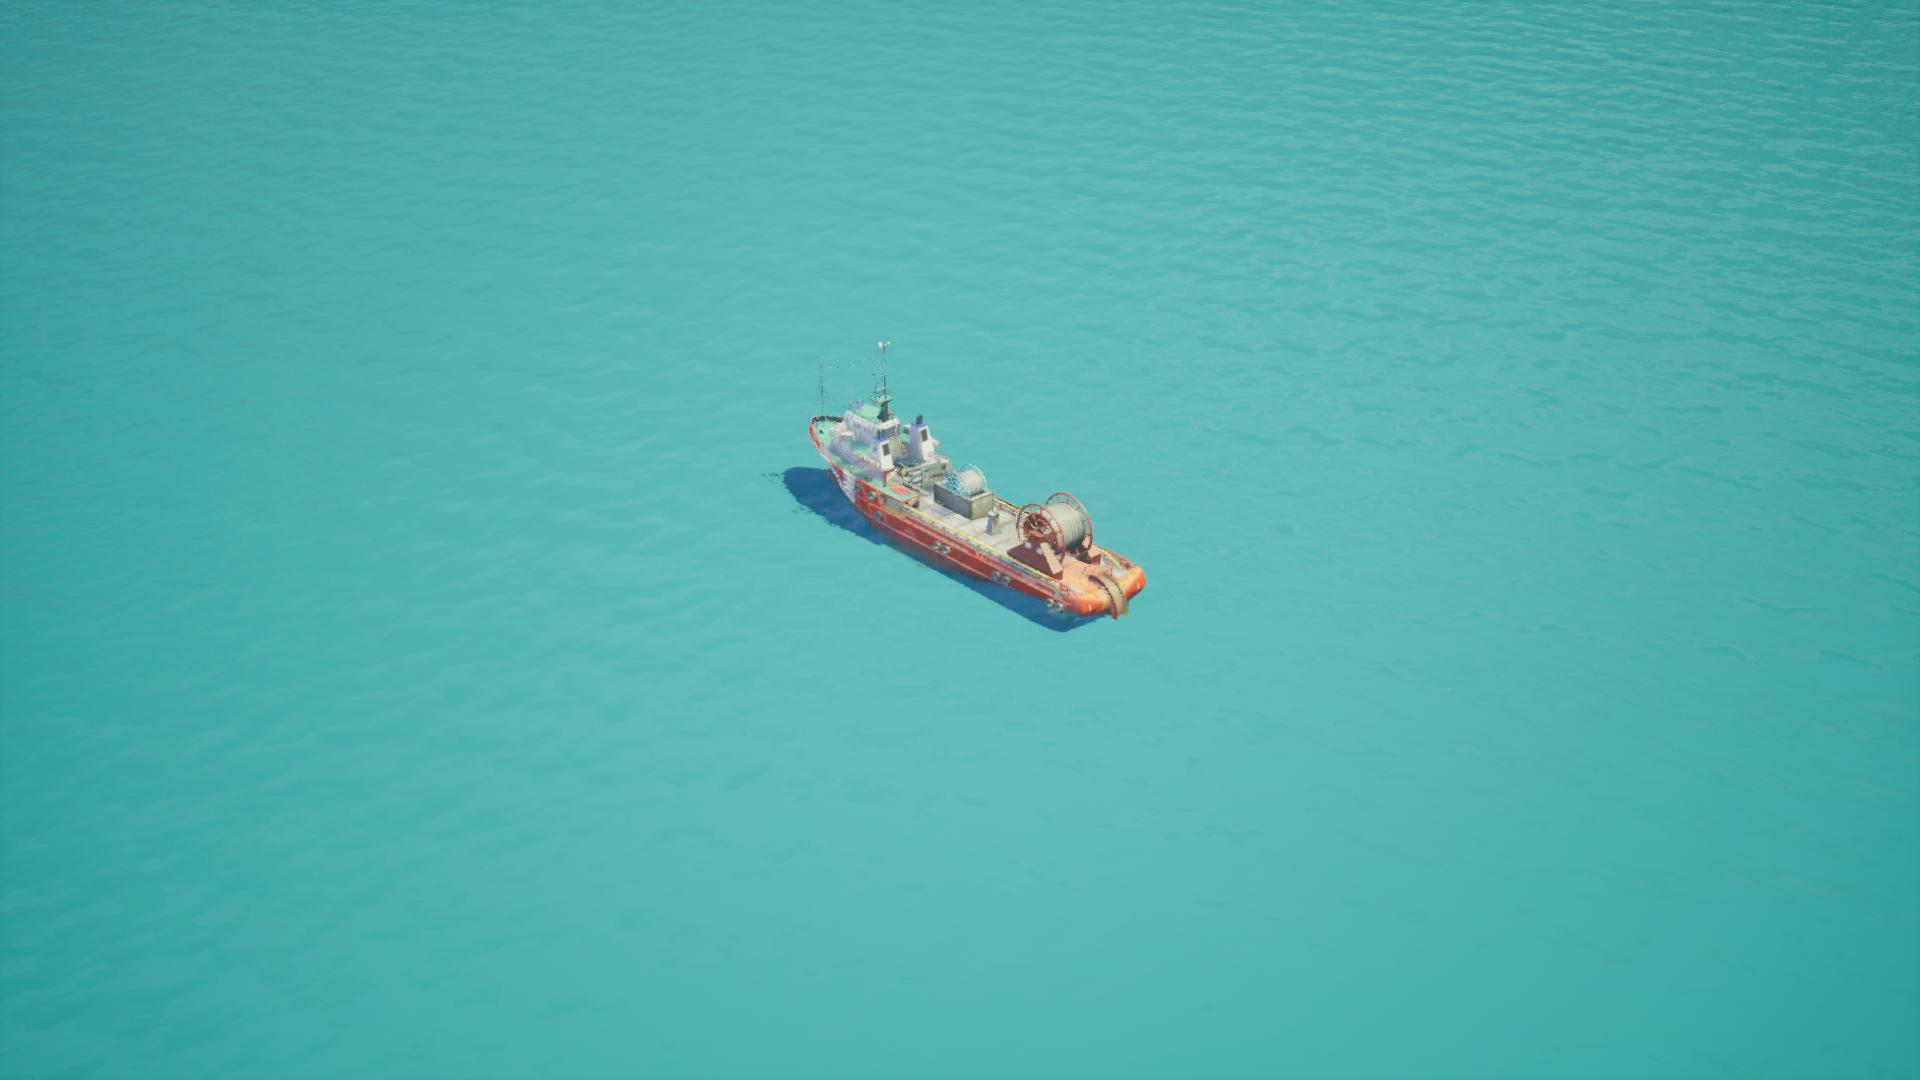Tug Boat: (785, 342, 1100, 634)
